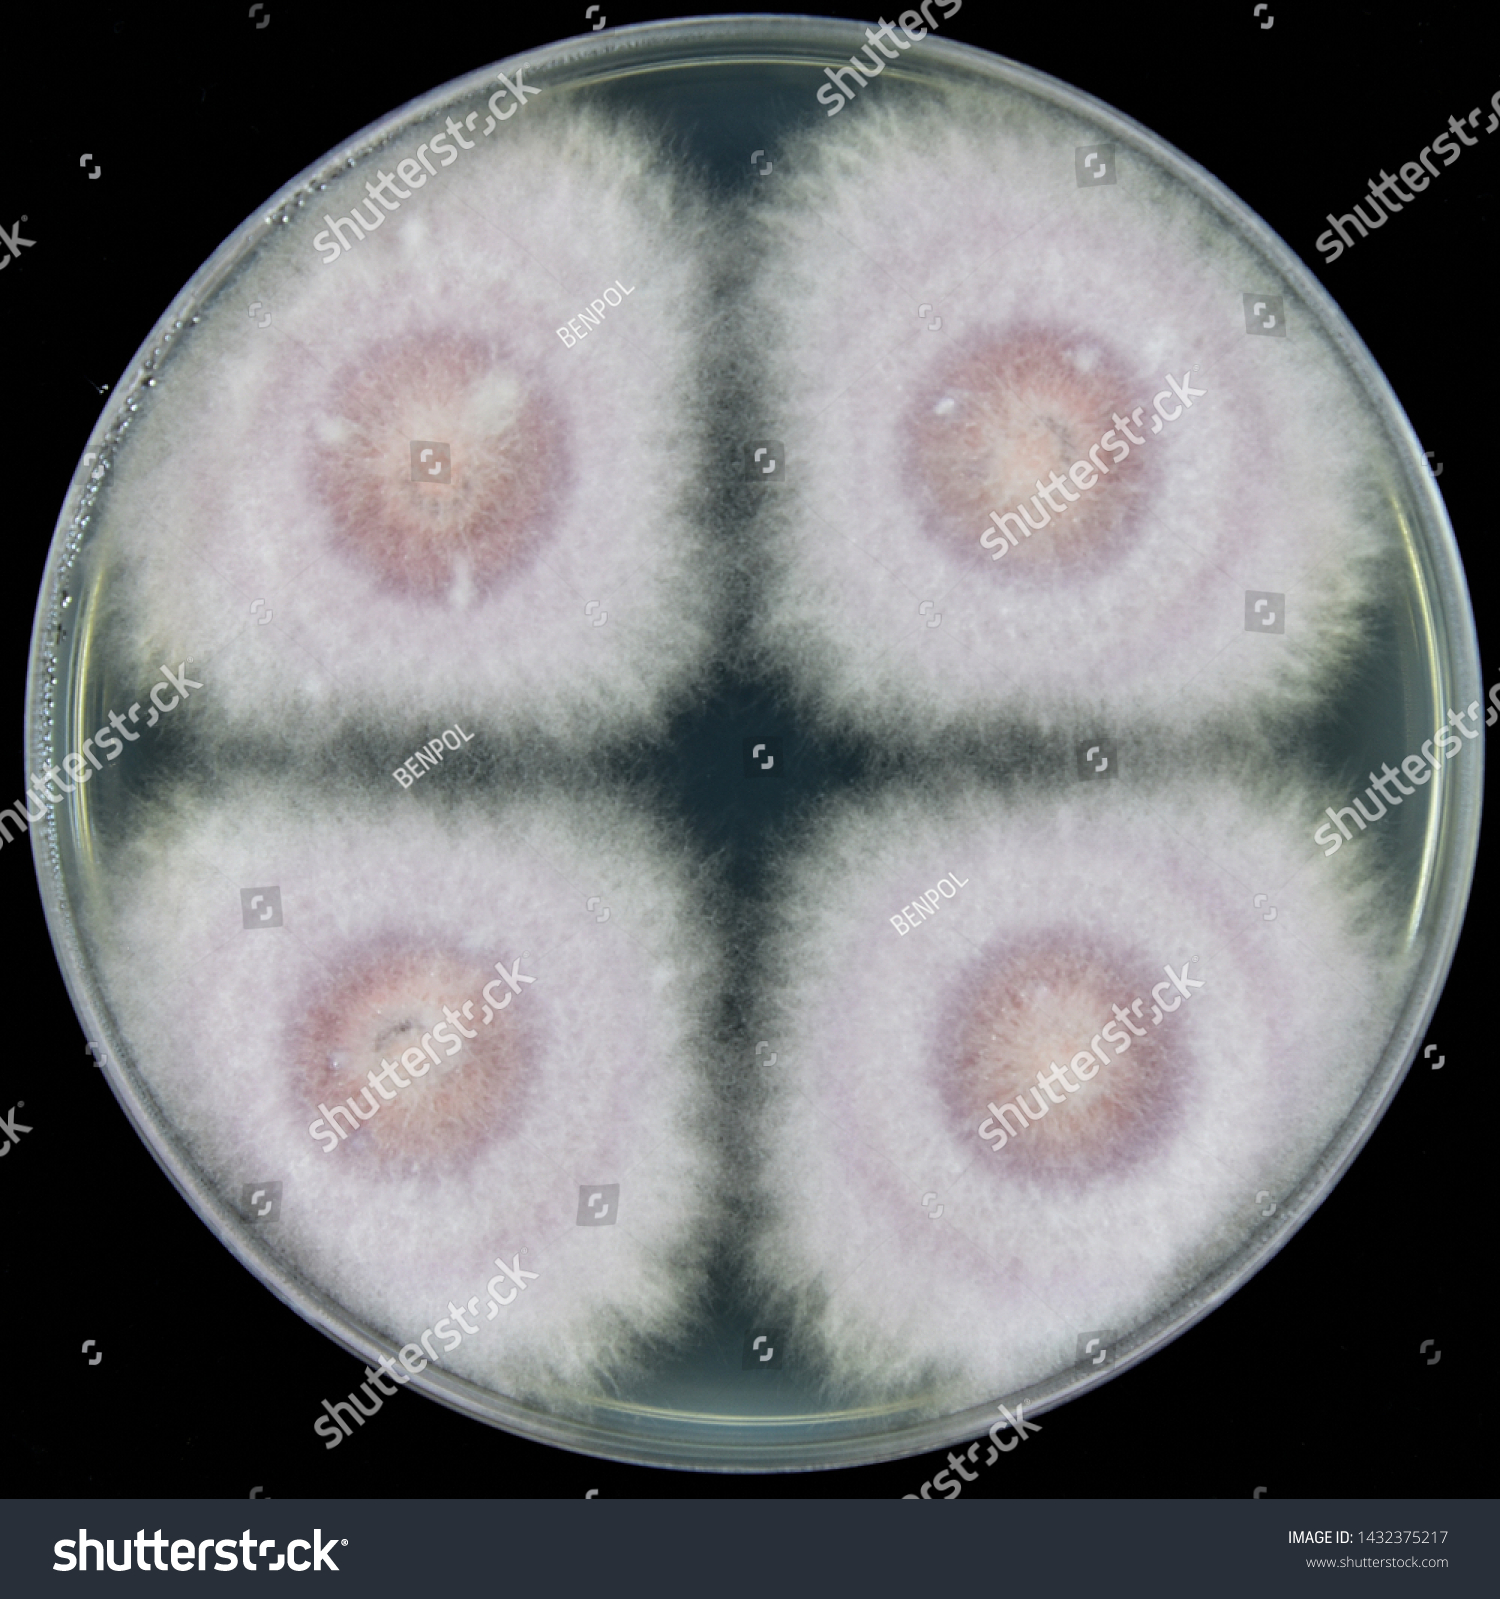Fusarium: (760, 822, 1234, 1246), (185, 826, 715, 1177), (219, 305, 654, 688), (801, 264, 1112, 410)
